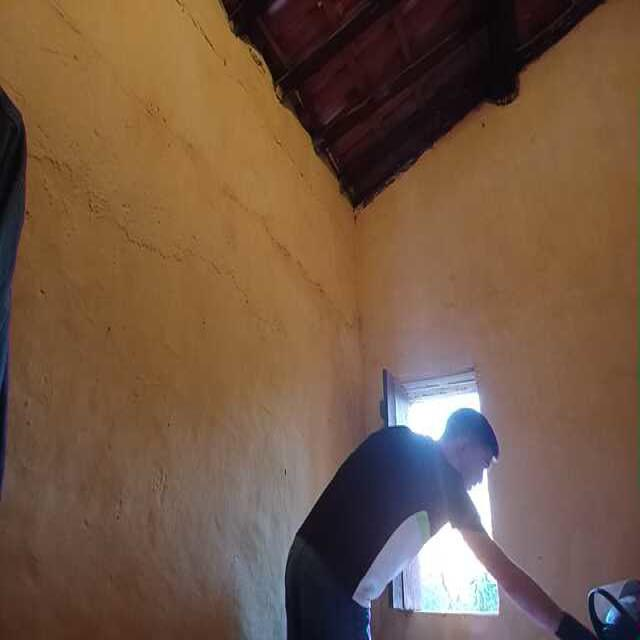capacete: (583, 577, 639, 640)
pessoa: (286, 393, 579, 640)
